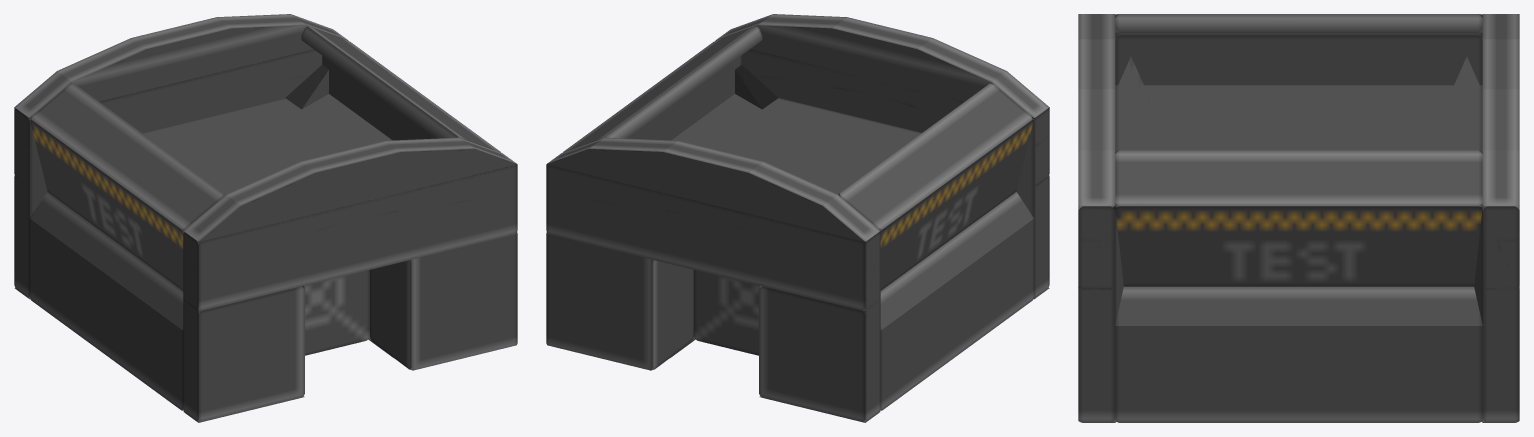
The model's file is drobitel.obj.
3 renders of one model, left to right at view 1: azimuth 30°, elevation 25°; view 2: azimuth 150°, elevation 25°; view 3: azimuth 270°, elevation 25°, orthographic. The views are drawn at different scales.
Visible parts, largest first — view 1: 1; view 2: 1; view 3: 1.
Part boxes in pixels (<box>): 1: <box>14,14,517,422</box>; 1: <box>546,14,1049,422</box>; 1: <box>1078,14,1519,422</box>.
Bounding box in the file's own units: 3 × 1.99 × 3.
